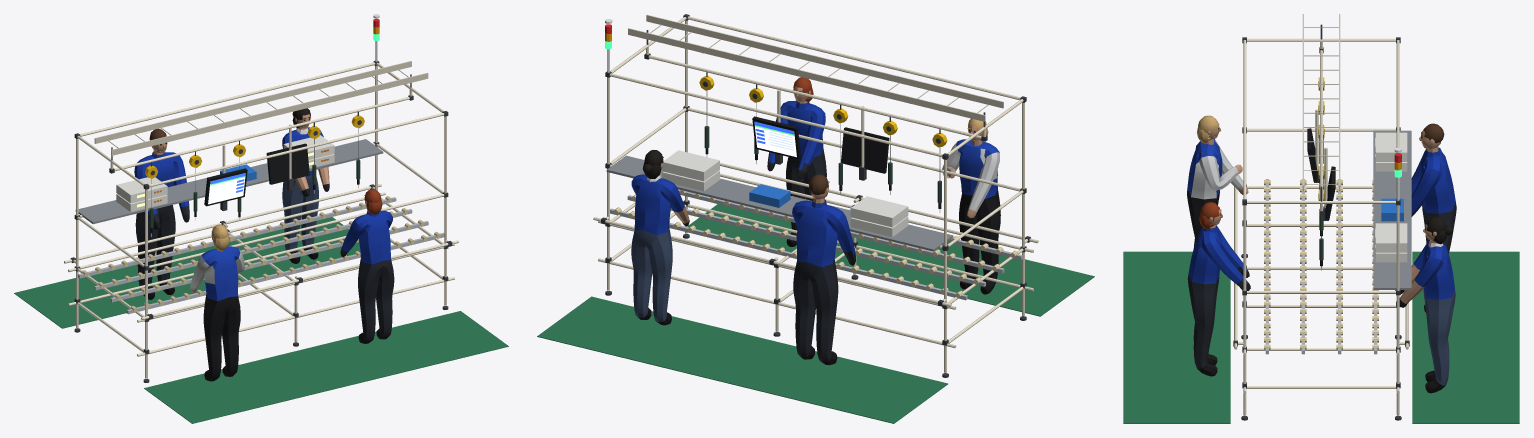
Rendered from kline-plant.glb.
The picture shows the model from 3 angles, left to right: view 1: azimuth 30°, elevation 25°; view 2: azimuth 150°, elevation 25°; view 3: azimuth 270°, elevation 25°; orthographic projection. The views are drawn at different scales.
Visible parts, largest first — view 1: KLINE.bay.floor, KLINE.bay.operators, KLINE.bay.frame, KLINE.bay.conveyor, KLINE.bay.rollers, KLINE.bay.tray, KLINE.bay.screens, KLINE.bay.instruments, KLINE.bay.tools, KLINE.bay.joints; view 2: KLINE.bay.floor, KLINE.bay.operators, KLINE.bay.frame, KLINE.bay.conveyor, KLINE.bay.rollers, KLINE.bay.tray, KLINE.bay.instruments, KLINE.bay.screens, KLINE.bay.tools, KLINE.bay.joints; view 3: KLINE.bay.floor, KLINE.bay.operators, KLINE.bay.frame, KLINE.bay.rollers, KLINE.bay.conveyor, KLINE.bay.instruments, KLINE.bay.tray, KLINE.bay.screens, KLINE.bay.tools, KLINE.bay.joints.
Part boxes in pixels (x1,y1,x2,y2): KLINE.bay.floor: [14, 217, 508, 423]; KLINE.bay.operators: [134, 108, 394, 381]; KLINE.bay.frame: [75, 62, 446, 316]; KLINE.bay.conveyor: [64, 184, 458, 382]; KLINE.bay.rollers: [78, 196, 444, 314]; KLINE.bay.tray: [94, 61, 428, 160]; KLINE.bay.screens: [204, 124, 309, 210]; KLINE.bay.instruments: [116, 135, 334, 211]; KLINE.bay.tools: [145, 112, 364, 236]; KLINE.bay.joints: [70, 61, 452, 354]; KLINE.bay.floor: [537, 204, 1094, 423]; KLINE.bay.operators: [631, 77, 1000, 365]; KLINE.bay.frame: [606, 16, 1024, 302]; KLINE.bay.conveyor: [593, 163, 1038, 377]; KLINE.bay.rollers: [610, 189, 1022, 300]; KLINE.bay.tray: [628, 14, 1003, 127]; KLINE.bay.instruments: [662, 150, 908, 237]; KLINE.bay.screens: [752, 90, 889, 180]; KLINE.bay.tools: [699, 72, 947, 212]; KLINE.bay.joints: [601, 14, 1030, 345]; KLINE.bay.floor: [1123, 251, 1519, 423]; KLINE.bay.operators: [1187, 115, 1456, 393]; KLINE.bay.frame: [1243, 38, 1411, 348]; KLINE.bay.rollers: [1264, 179, 1378, 354]; KLINE.bay.conveyor: [1234, 180, 1408, 420]; KLINE.bay.instruments: [1375, 132, 1407, 262]; KLINE.bay.tray: [1302, 14, 1340, 201]; KLINE.bay.screens: [1307, 109, 1335, 220]; KLINE.bay.tools: [1318, 77, 1324, 270]; KLINE.bay.joints: [1233, 37, 1409, 388].
Size of the model in its own units: 3.6 by 2.64 by 3.51.
